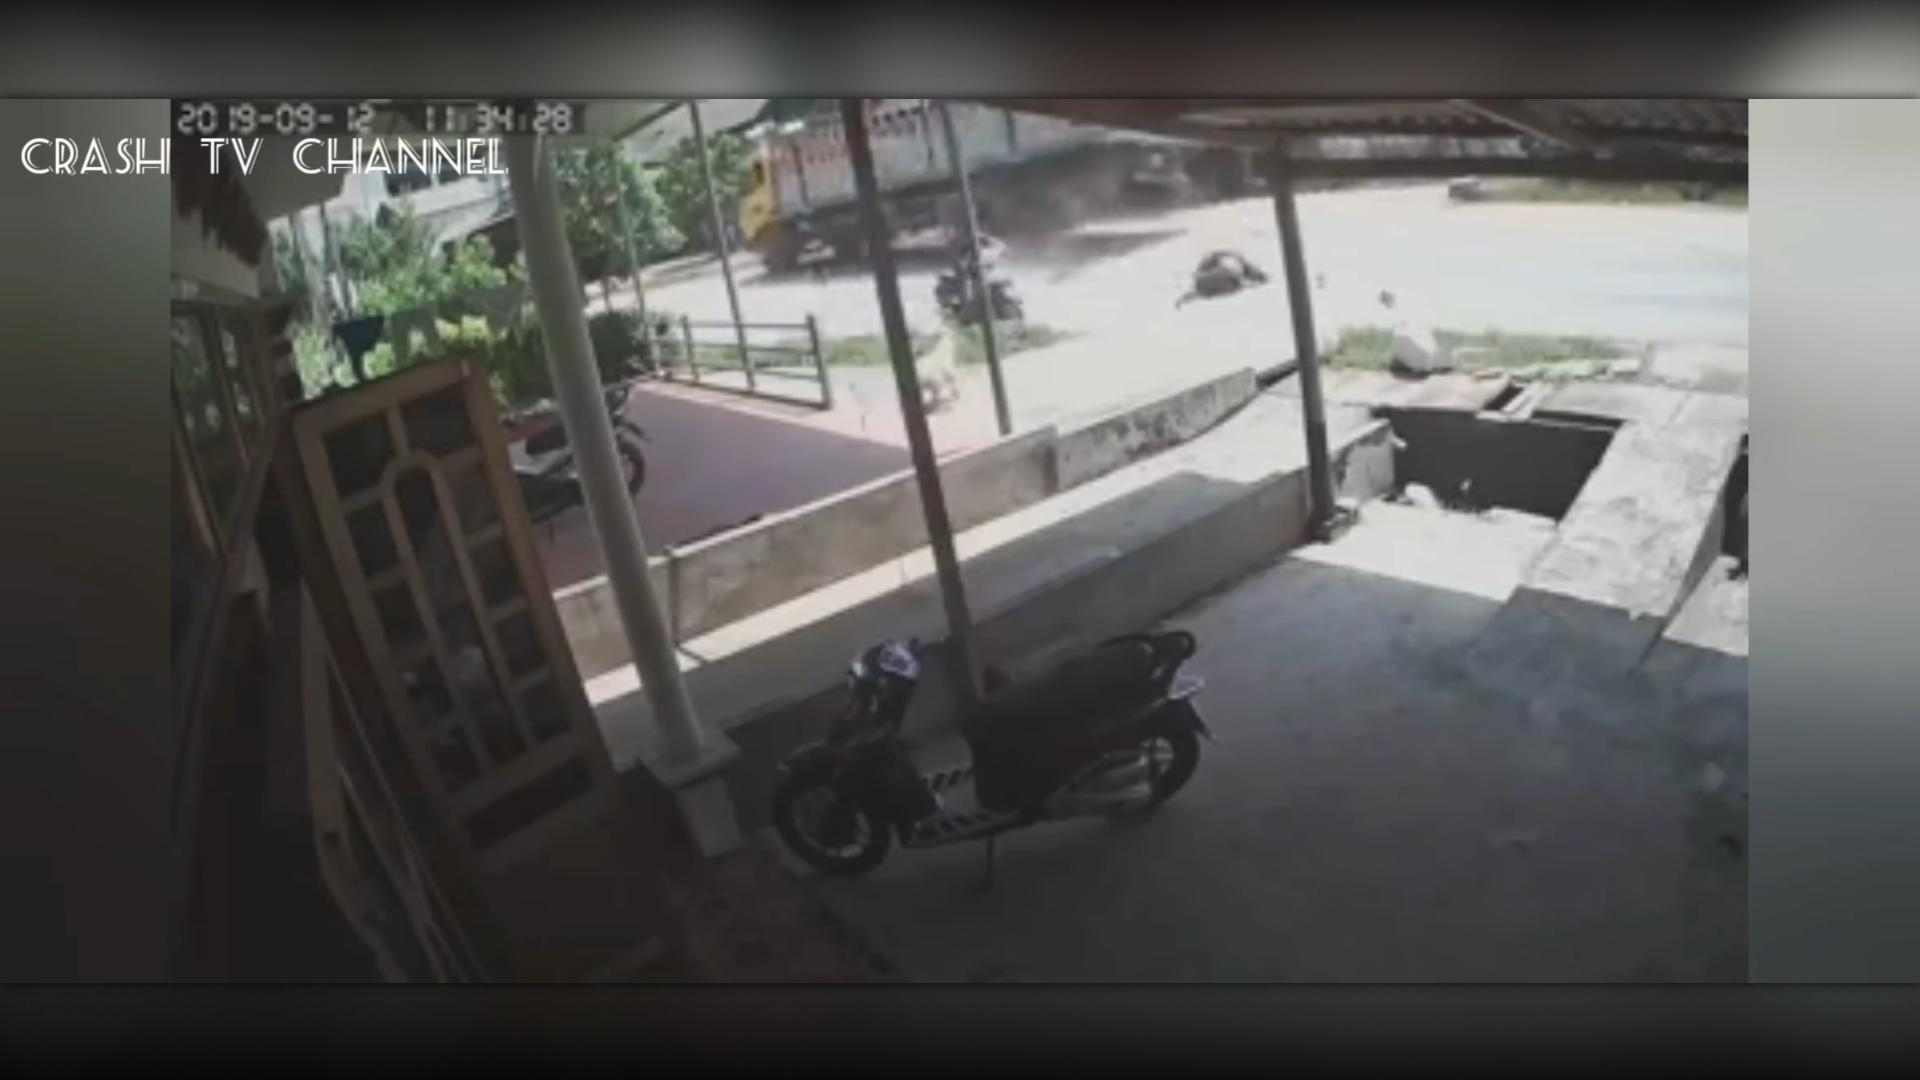accident: (1168, 231, 1283, 324)
